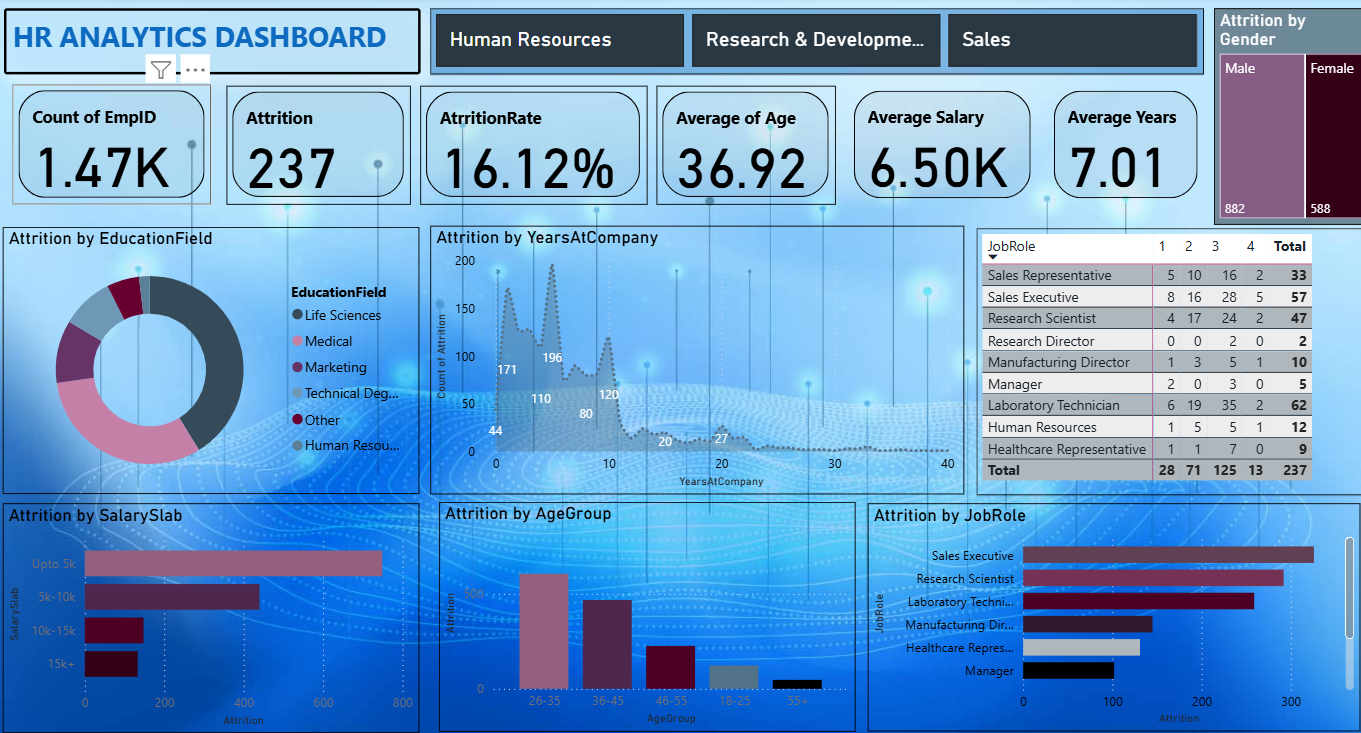

Layout of this report page (visuals, bound fields, positions):
{"tool":"powerbi","page":{"name":"Dashboard_1","canvas":[1331,722],"ordinal":0},"visuals":[{"type":"textbox","box":[9.7,10.9,402.9,64.1],"z":0},{"type":"advancedSlicerVisual","fields":{"Values":["HR_Analytics.Department"]},"box":[422,11.2,749.2,63.7],"z":1000},{"type":"treemap","title":"Attrition by Gender","fields":{"Group":["HR_Analytics.Gender"],"Values":["CountNonNull(HR_Analytics.Attrition)"]},"box":[1181.2,11.2,149.8,209.8],"z":2000},{"type":"donutChart","title":" Attrition by EducationField","fields":{"Y":["CountNonNull(HR_Analytics.Attrition)"],"Category":["HR_Analytics.EducationField"]},"box":[8.7,222.2,403.3,258.5],"z":3000},{"type":"stackedAreaChart","title":"Attrition by YearsAtCompany","fields":{"Category":["HR_Analytics.YearsAtCompany"],"Y":["CountNonNull(HR_Analytics.Attrition)"]},"box":[422,221,516.9,259.7],"z":4000},{"type":"cardVisual","fields":{"Data":["CountNonNull(HR_Analytics.EmpID)"]},"box":[18.7,84.9,192.3,116.1],"z":5000},{"type":"cardVisual","fields":{"Data":["Sum(HR_Analytics.Attrition Count)"]},"box":[224.7,86.2,178.5,114.9],"z":6000},{"type":"cardVisual","fields":{"Data":["Avg(HR_Analytics.YearsAtCompany)"]},"box":[1021.3,86.2,149.8,114.9],"z":7000},{"type":"cardVisual","fields":{"Data":["HR_Analytics.AtrritionRate"]},"box":[412,86.2,219.8,114.9],"z":8000},{"type":"cardVisual","fields":{"Data":["Avg(HR_Analytics.Age)"]},"box":[641.8,86.2,173.6,114.9],"z":9000},{"type":"cardVisual","fields":{"Data":["Avg(HR_Analytics.MonthlyIncome)"]},"box":[827.8,86.2,181,114.9],"z":10000},{"type":"pivotTable","fields":{"Rows":["HR_Analytics.JobRole"],"Columns":["HR_Analytics.JobInvolvement"],"Values":["Sum(HR_Analytics.Attrition Count)"]},"box":[951.4,223.5,379.6,258.5],"z":11000},{"type":"clusteredBarChart","fields":{"Category":["HR_Analytics.SalarySlab"],"Y":["CountNonNull(HR_Analytics.Attrition)"]},"box":[8.7,489.4,403.3,222.2],"z":13000},{"type":"clusteredColumnChart","fields":{"Y":["CountNonNull(HR_Analytics.Attrition)"],"Category":["HR_Analytics.AgeGroup"]},"box":[431,489,403,222],"z":14000},{"type":"clusteredBarChart","fields":{"Category":["HR_Analytics.JobRole"],"Y":["CountNonNull(HR_Analytics.Attrition)"]},"box":[845.3,489.4,477,221],"z":15000}]}

Visuals, with their boxes in screenshot pixels (x1, y1, x2, y2), scaled from the page's 1331x722 canvas onto the 1361x733 screenshot:
textbox: Rect(10, 11, 422, 76)
advancedSlicerVisual - HR_Analytics.Department: Rect(432, 11, 1198, 76)
"Attrition by Gender" treemap: Rect(1208, 11, 1360, 224)
" Attrition by EducationField" donutChart: Rect(9, 226, 421, 488)
"Attrition by YearsAtCompany" stackedAreaChart: Rect(432, 224, 960, 488)
cardVisual - CountNonNull(HR_Analytics.EmpID): Rect(19, 86, 216, 204)
cardVisual - Sum(HR_Analytics.Attrition Count): Rect(230, 88, 412, 204)
cardVisual - Avg(HR_Analytics.YearsAtCompany): Rect(1044, 88, 1197, 204)
cardVisual - HR_Analytics.AtrritionRate: Rect(421, 88, 646, 204)
cardVisual - Avg(HR_Analytics.Age): Rect(656, 88, 834, 204)
cardVisual - Avg(HR_Analytics.MonthlyIncome): Rect(846, 88, 1032, 204)
pivotTable - HR_Analytics.JobRole x HR_Analytics.JobInvolvement: Rect(973, 227, 1360, 489)
clusteredBarChart - HR_Analytics.SalarySlab x CountNonNull(HR_Analytics.Attrition): Rect(9, 497, 421, 722)
clusteredColumnChart - CountNonNull(HR_Analytics.Attrition) x HR_Analytics.AgeGroup: Rect(441, 496, 853, 722)
clusteredBarChart - HR_Analytics.JobRole x CountNonNull(HR_Analytics.Attrition): Rect(864, 497, 1352, 721)
